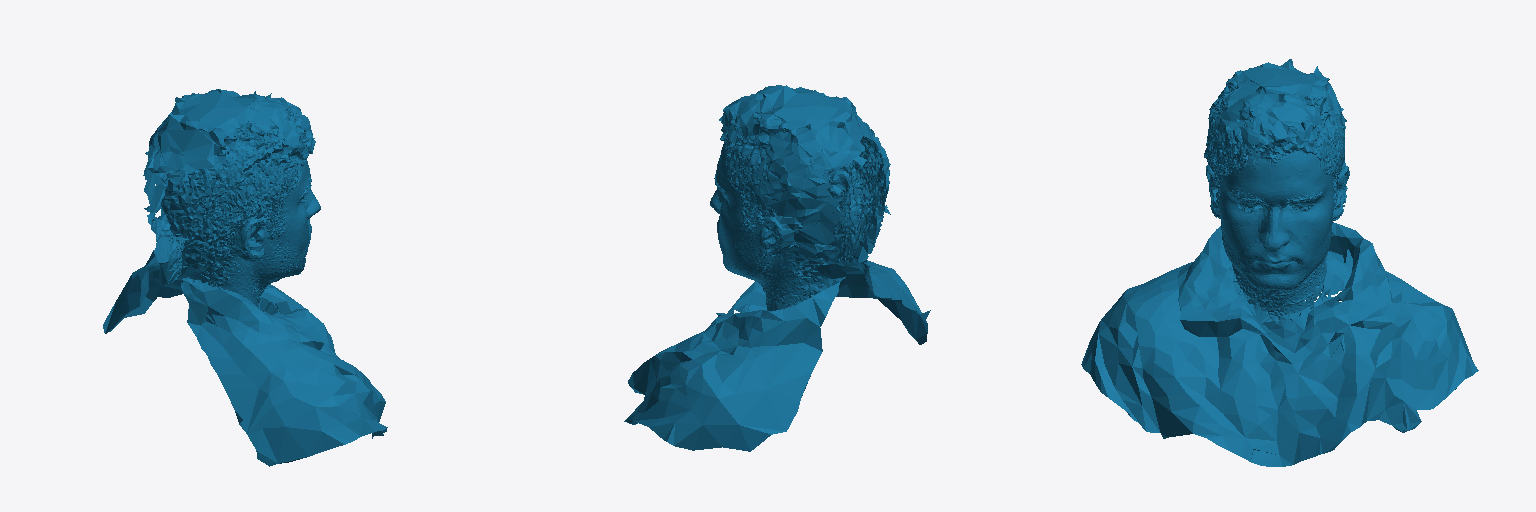
The model's file is ShahriarsHead_3e+01KTris__4k_1Chunks.obj.
The picture shows the model from 3 angles: view 1: azimuth 30°, elevation 25°; view 2: azimuth 150°, elevation 25°; view 3: azimuth 270°, elevation 25°; orthographic projection.
Parts seen in each view (by area): view 1: object0; view 2: object0; view 3: object0.
Boxes of the visible parts, box(x1,y1,x2,y2) form: object0: box(103, 89, 387, 466); object0: box(624, 85, 930, 451); object0: box(1081, 59, 1478, 466).
Size of the model in its own units: 37.7 by 55.62 by 60.31.